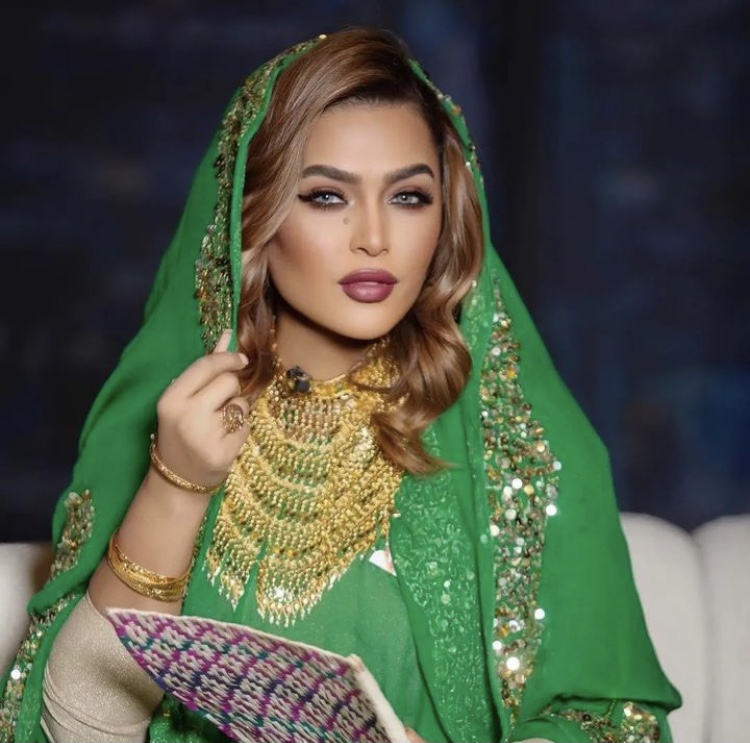Saudi_Founding_Day: (2, 24, 708, 742)
